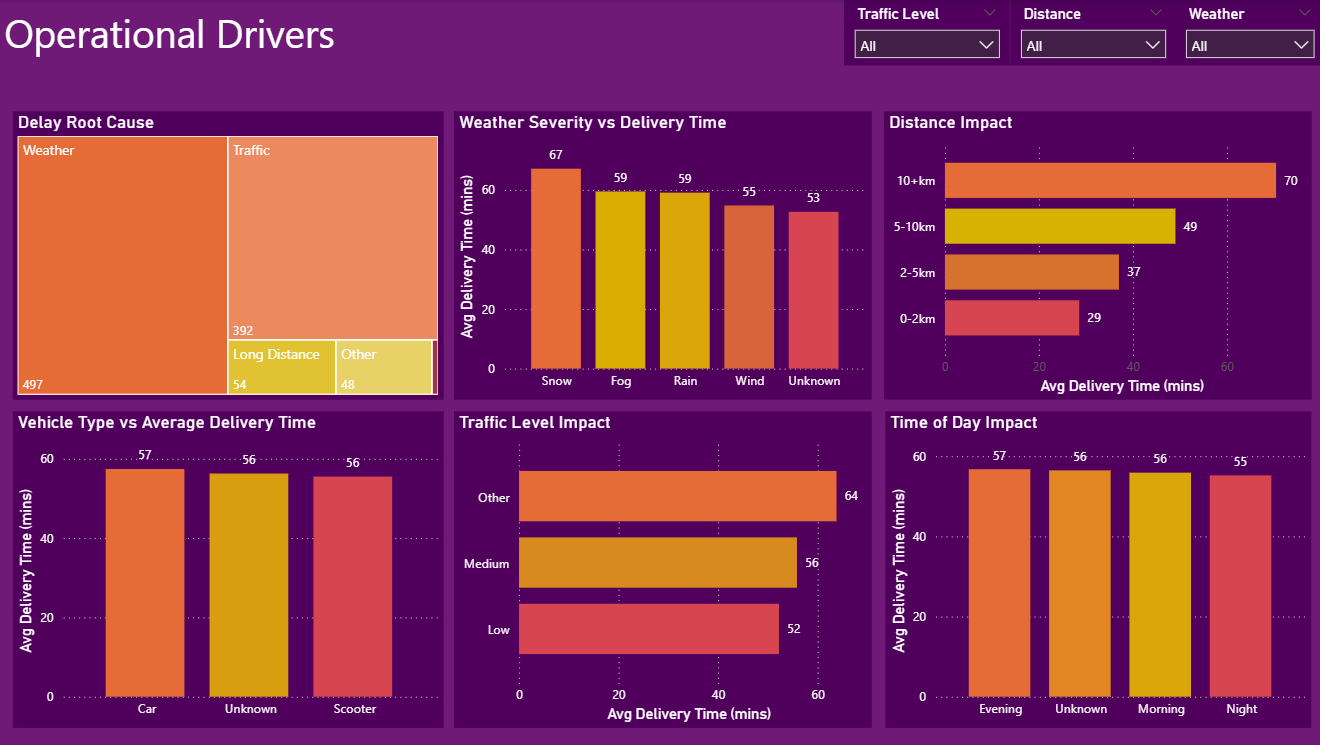

This screenshot's page, from the dashboard's own definition file:
{"tool":"powerbi","page":{"name":"Operational Drivers","canvas":[1280,720],"ordinal":1},"visuals":[{"type":"treemap","title":"Delay Root Cause","fields":{"Group":["zepto_delivery.Delay Root Cause"],"Values":["zepto_delivery.Total Deliveries"]},"box":[12.9,107.1,415.7,278.6],"z":0},{"type":"clusteredColumnChart","title":"Weather Severity vs Delivery Time","fields":{"Y":["zepto_delivery.Avg Delivery Time (mins)"],"Category":["zepto_delivery.weather severity"]},"box":[438.6,107.1,402.9,278.6],"z":1000},{"type":"barChart","title":"Distance Impact","fields":{"Category":["zepto_delivery.Distance bucket"],"Y":["zepto_delivery.Avg Delivery Time (mins)"]},"box":[854.3,107.1,412.9,278.6],"z":2000},{"type":"barChart","title":"Traffic Level Impact","fields":{"Category":["zepto_delivery.Traffic Bucket"],"Y":["zepto_delivery.Avg Delivery Time (mins)"]},"box":[438.6,397.1,402.9,305.7],"z":3000},{"type":"clusteredColumnChart","title":"Time of Day Impact","fields":{"Y":["zepto_delivery.Avg Delivery Time (mins)"],"Category":["zepto_delivery.Time Bucket"]},"box":[855.7,397.1,411.4,305.7],"z":4000},{"type":"clusteredColumnChart","title":"Vehicle Type vs Average Delivery Time","fields":{"Y":["zepto_delivery.Avg Delivery Time (mins)"],"Category":["zepto_delivery.Vehicle Type"]},"box":[12.9,397.1,415.7,305.7],"z":5000},{"type":"slicer","title":"Experience vs Avg Delivery Time","fields":{"Values":["zepto_delivery.Traffic Bucket"]},"box":[815.7,0,160,62.9],"z":6000},{"type":"slicer","title":"Experience vs Avg Delivery Time","fields":{"Values":["zepto_delivery.weather severity"]},"box":[1135.7,0,144.3,62.9],"z":7000},{"type":"slicer","title":"Experience vs Avg Delivery Time","fields":{"Values":["zepto_delivery.Distance bucket"]},"box":[975.7,0,160,62.9],"z":8000},{"type":"textbox","box":[0,1.4,348.6,61.4],"z":9000}]}

Visuals, with their boxes in screenshot pixels (x1, y1, x2, y2), scaled from the page's 1280x720 canvas onto the 1320x745 screenshot:
"Delay Root Cause" treemap: [x1=13, y1=111, x2=442, y2=399]
"Weather Severity vs Delivery Time" clusteredColumnChart: [x1=452, y1=111, x2=868, y2=399]
"Distance Impact" barChart: [x1=881, y1=111, x2=1307, y2=399]
"Traffic Level Impact" barChart: [x1=452, y1=411, x2=868, y2=727]
"Time of Day Impact" clusteredColumnChart: [x1=882, y1=411, x2=1307, y2=727]
"Vehicle Type vs Average Delivery Time" clusteredColumnChart: [x1=13, y1=411, x2=442, y2=727]
"Experience vs Avg Delivery Time" slicer: [x1=841, y1=0, x2=1006, y2=65]
"Experience vs Avg Delivery Time" slicer: [x1=1171, y1=0, x2=1319, y2=65]
"Experience vs Avg Delivery Time" slicer: [x1=1006, y1=0, x2=1171, y2=65]
textbox: [x1=0, y1=1, x2=359, y2=65]
